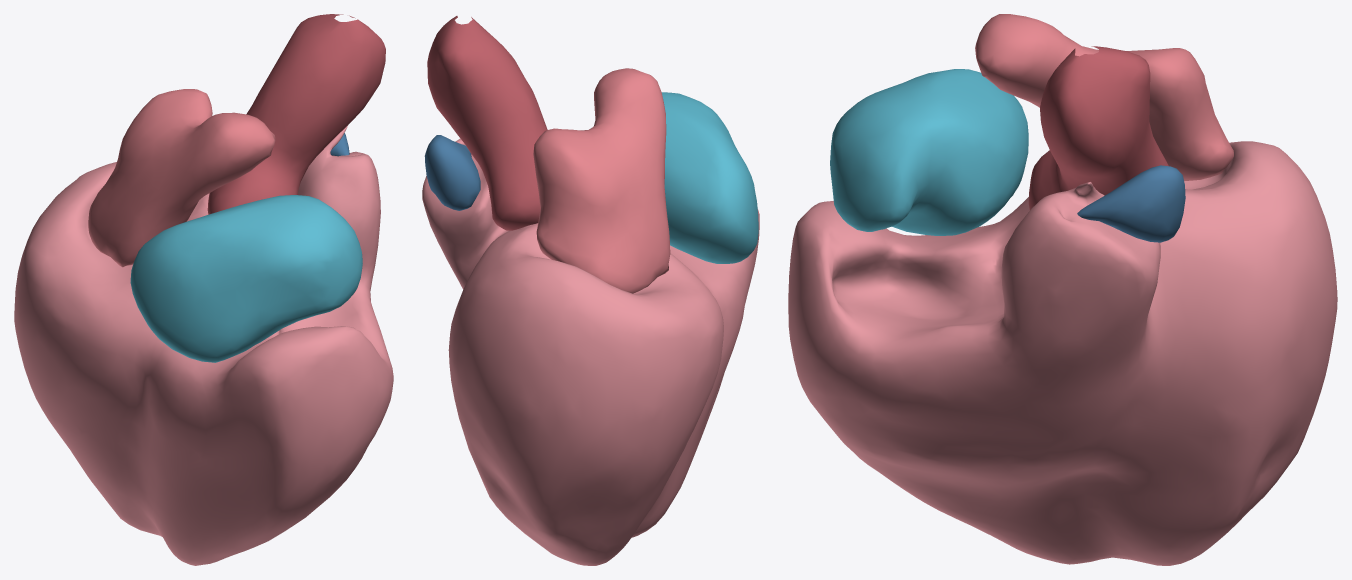
The model's file is frame_11.glb.
3 renders of one model, left to right at view 1: azimuth 30°, elevation 25°; view 2: azimuth 150°, elevation 25°; view 3: azimuth 270°, elevation 25°, orthographic. The views are drawn at different scales.
Parts seen in each view (by area): view 1: Renderer Node; view 2: Renderer Node; view 3: Renderer Node.
Part boxes in pixels (<box>): Renderer Node: <box>14,14,393,565</box>; Renderer Node: <box>422,16,759,565</box>; Renderer Node: <box>788,14,1337,565</box>.
Bounding box in the file's own units: 107 × 164 × 134.
